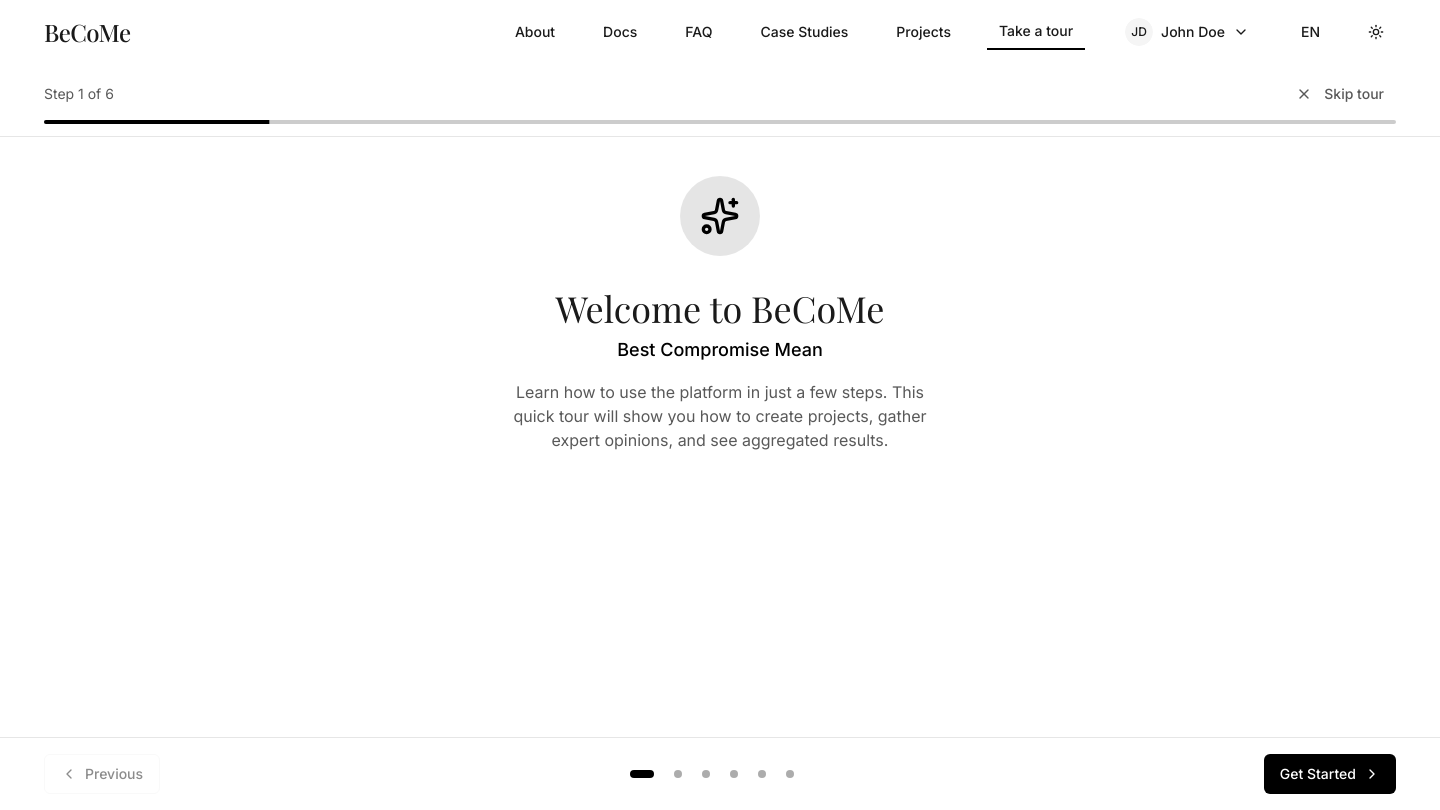
Test case: Onboarding › progress bar increases per step
This screenshot has width=1440, height=810.
Expected: the text "Step 1 of 6" is shown, [44, 84, 114, 104]
Click the button "Get Started" at (1330,774), box [1264, 754, 1396, 794]
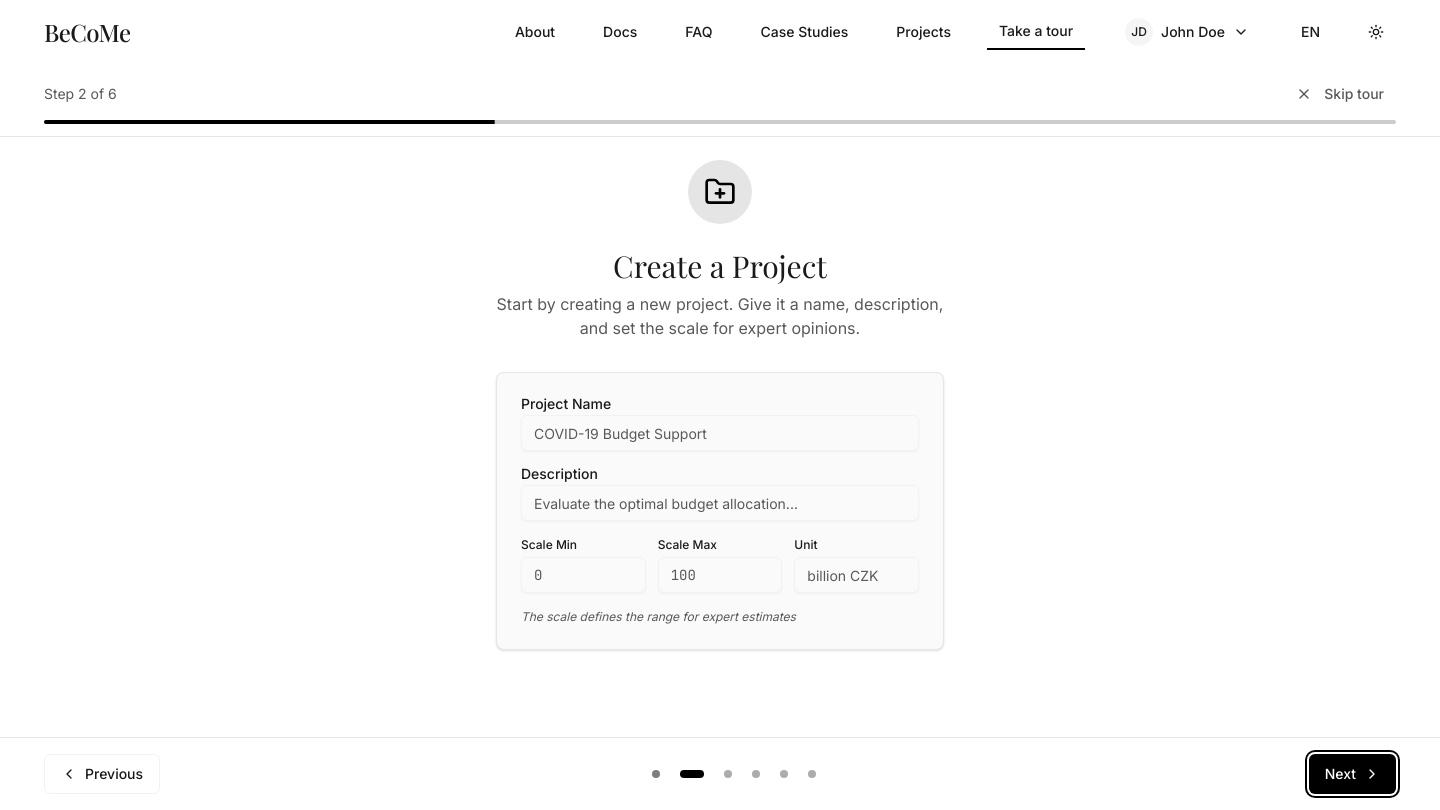
Expected: the text "Step 2 of 6" is shown, [44, 84, 117, 104]
